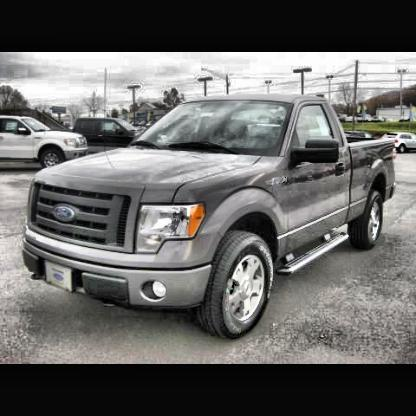Ford F-150 Regular Cab 2012: (24, 94, 399, 342)
